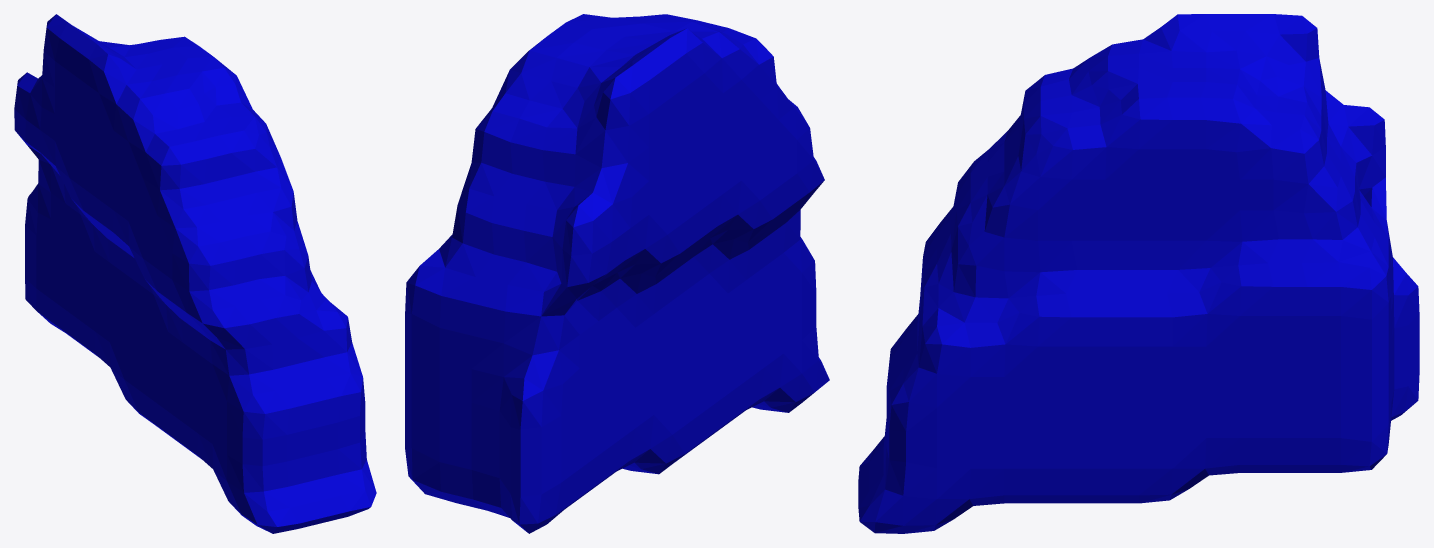
Rendered from aseg_255_CC_Anterior.glb.
3 views of the same model, side by side, from view 1: azimuth 30°, elevation 25°; view 2: azimuth 150°, elevation 25°; view 3: azimuth 270°, elevation 25° (orthographic). The views are drawn at different scales.
Bounding box in the file's own units: 6 × 14.83 × 16.67.
